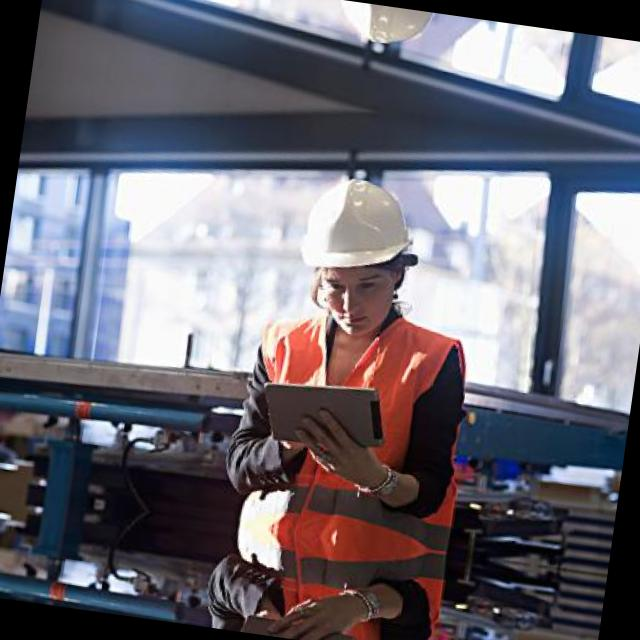helmet: (286, 153, 430, 348), (325, 0, 453, 72)
